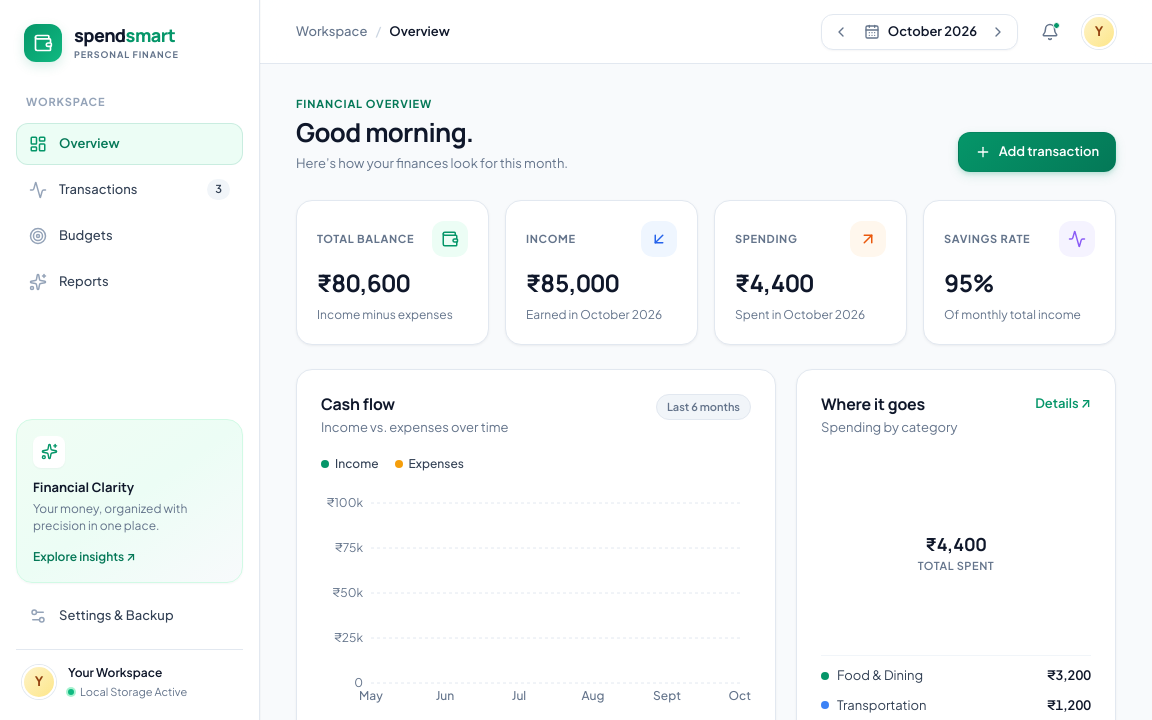
Scenario: SpendSmart App UI & Interaction Tests › filters transactions by search query
The width and height of the screenshot is (1152, 720).
Click the button "Transactions 3". click: coordinates (130, 190)
box: [16,168,243,210]
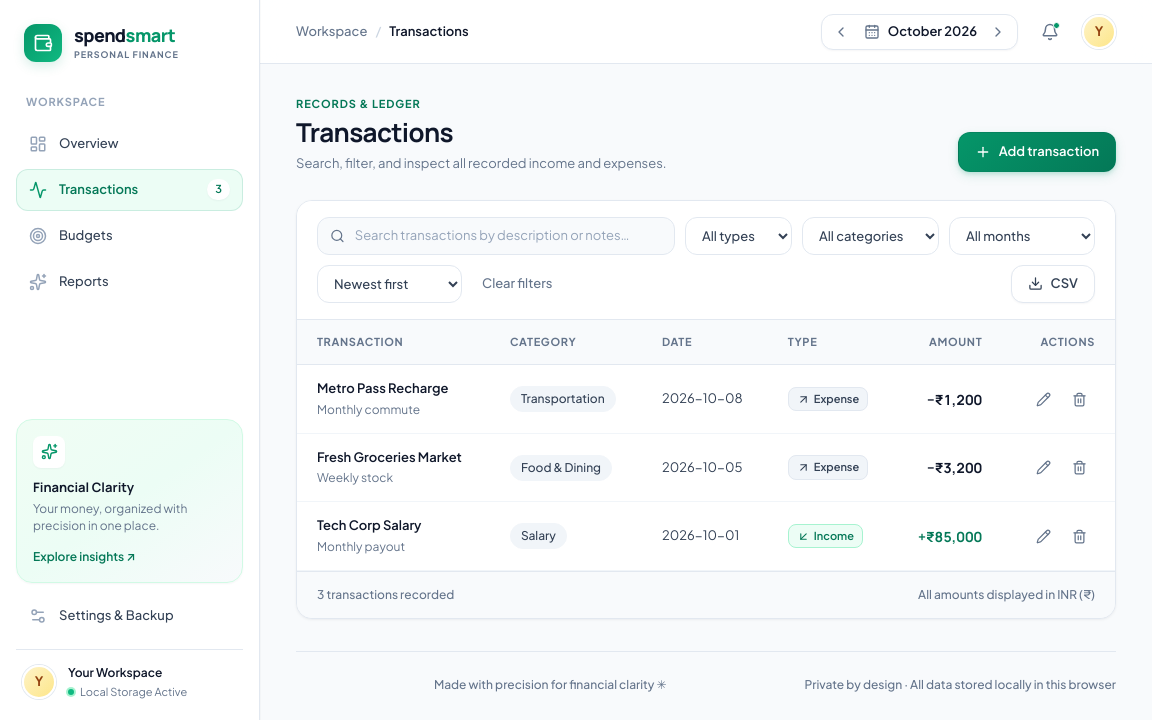
Type "Metro" into the field with placeholder "Search transactions by description or notes…". click: coordinates (508, 236)
box: [355,226,662,246]
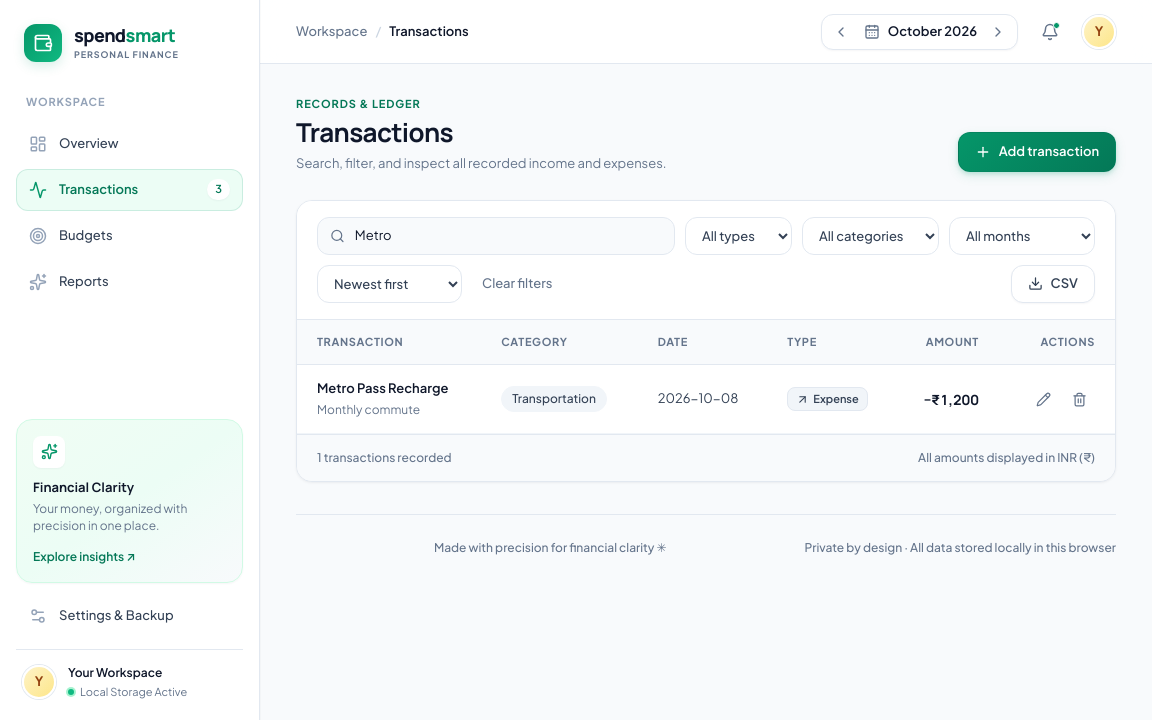
Expected: the text "Metro Pass Recharge" is shown, [317,379,461,399]
Expected: the text "Tech Corp Salary" is gone
Expected: the text "Fresh Groceries Market" is gone
